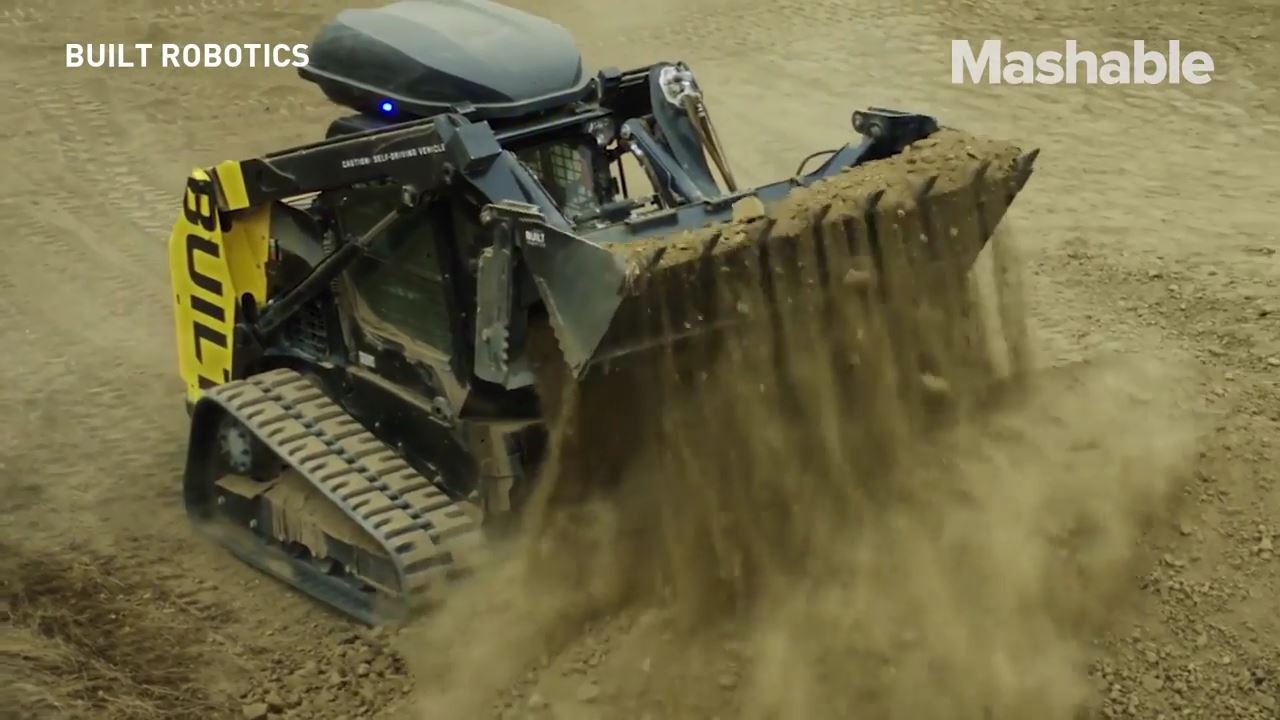con_eq: (158, 5, 1032, 628)
